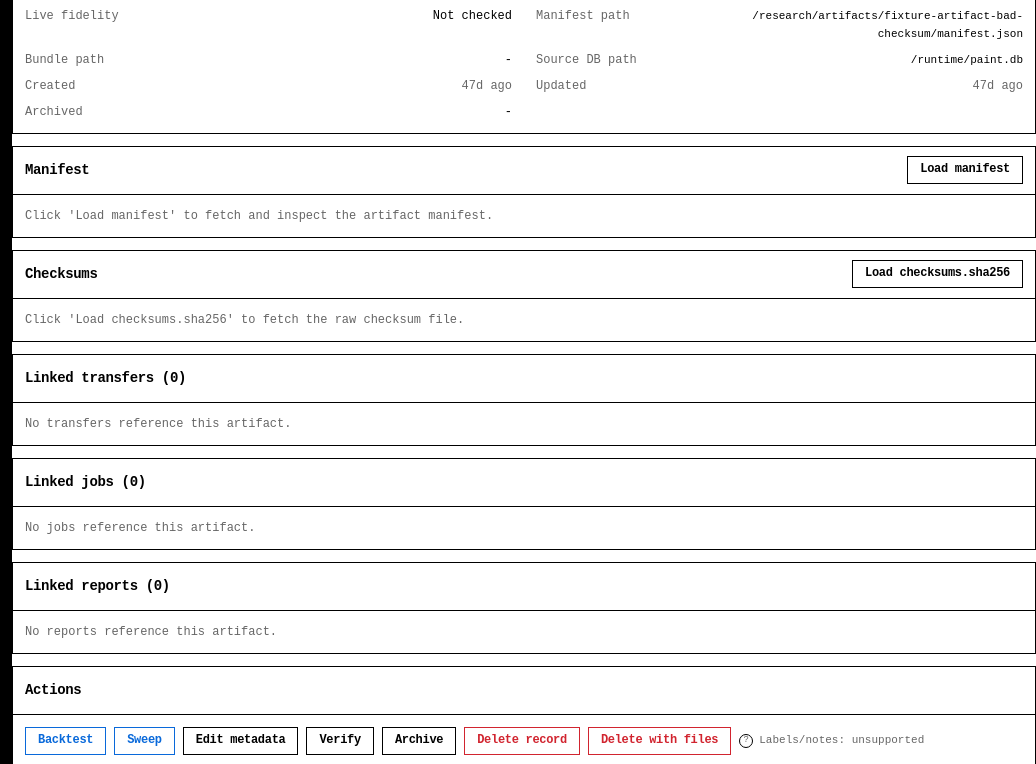
Test case: ResearchArtifactDetailPage - bad checksum › surfaces verify failure in a danger banner
(page scrolled)
Click the button "Verify" at (340, 740), box [306,726,374,754]
(page scrolled)
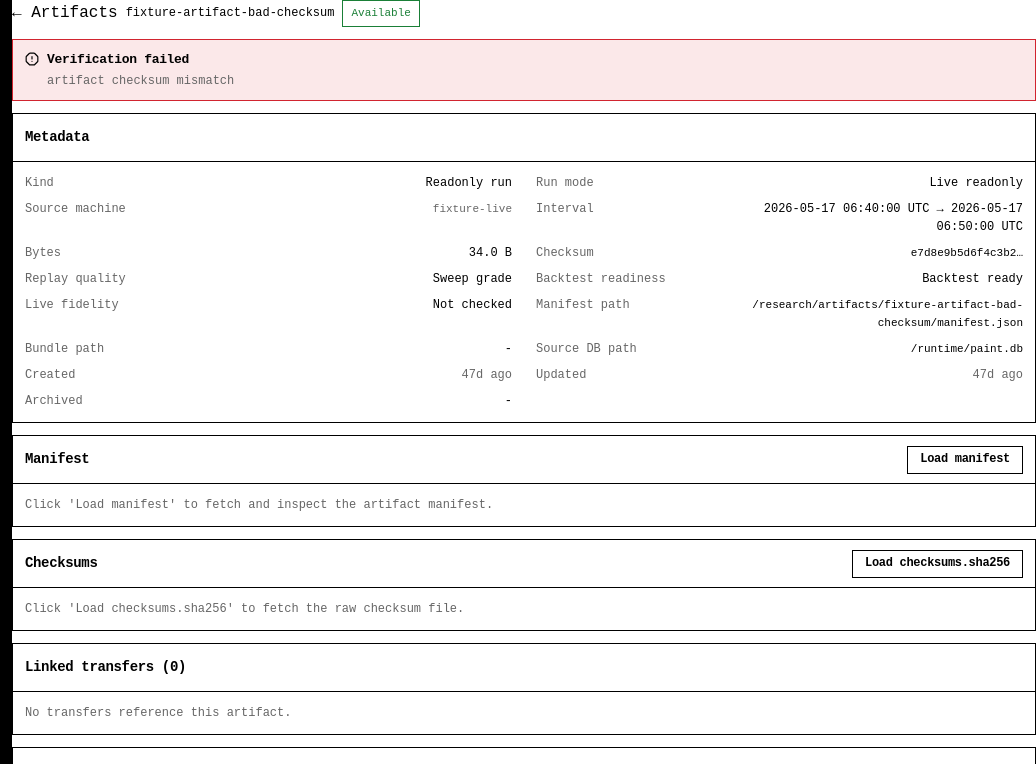
Expected: the text "Verification failed" is shown, [47,52,189,66]
Expected: the text "artifact checksum mismatch" is shown, [47,74,234,88]
